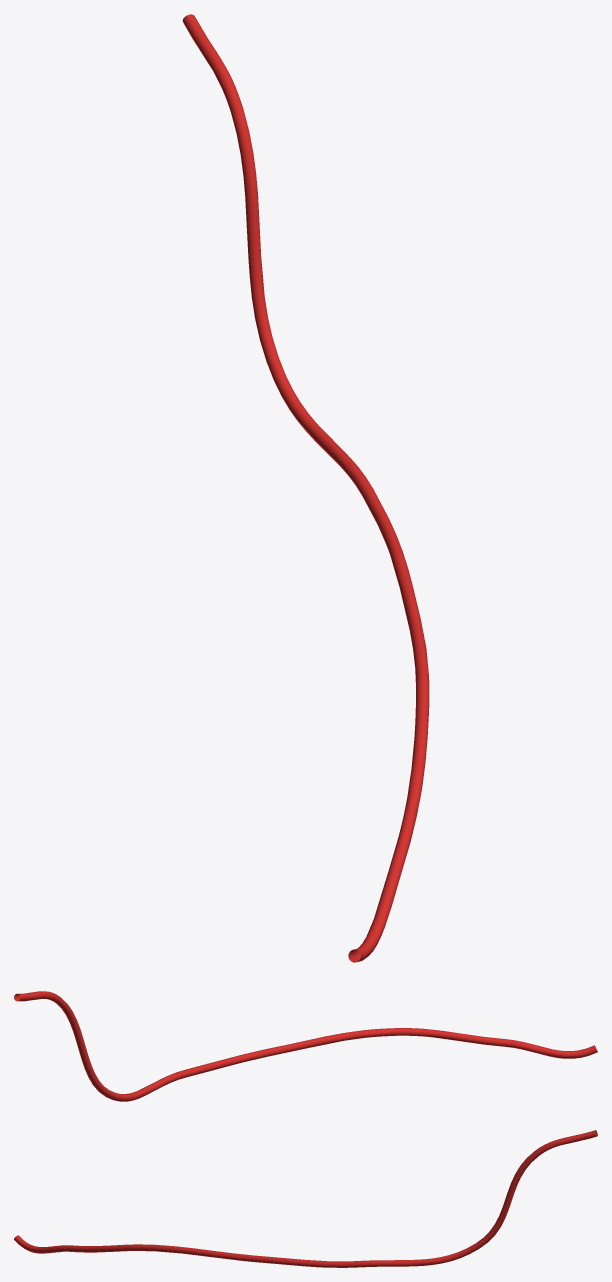
The model's file is circulatorio-greater-palatine-artery-l.glb.
3 renders of one model, top to bottom at view 1: azimuth 30°, elevation 25°; view 2: azimuth 150°, elevation 25°; view 3: azimuth 270°, elevation 25°, orthographic. The views are drawn at different scales.
Parts seen in each view (by area): view 1: Greater palatine artery.l; view 2: Greater palatine artery.l; view 3: Greater palatine artery.l.
Boxes of the visible parts, box(x1,y1,x2,y2) form: Greater palatine artery.l: box(182, 14, 429, 962); Greater palatine artery.l: box(14, 991, 597, 1101); Greater palatine artery.l: box(14, 1130, 597, 1267).
Size of the model in its own units: 0.0147 by 0.0142 by 0.035.
